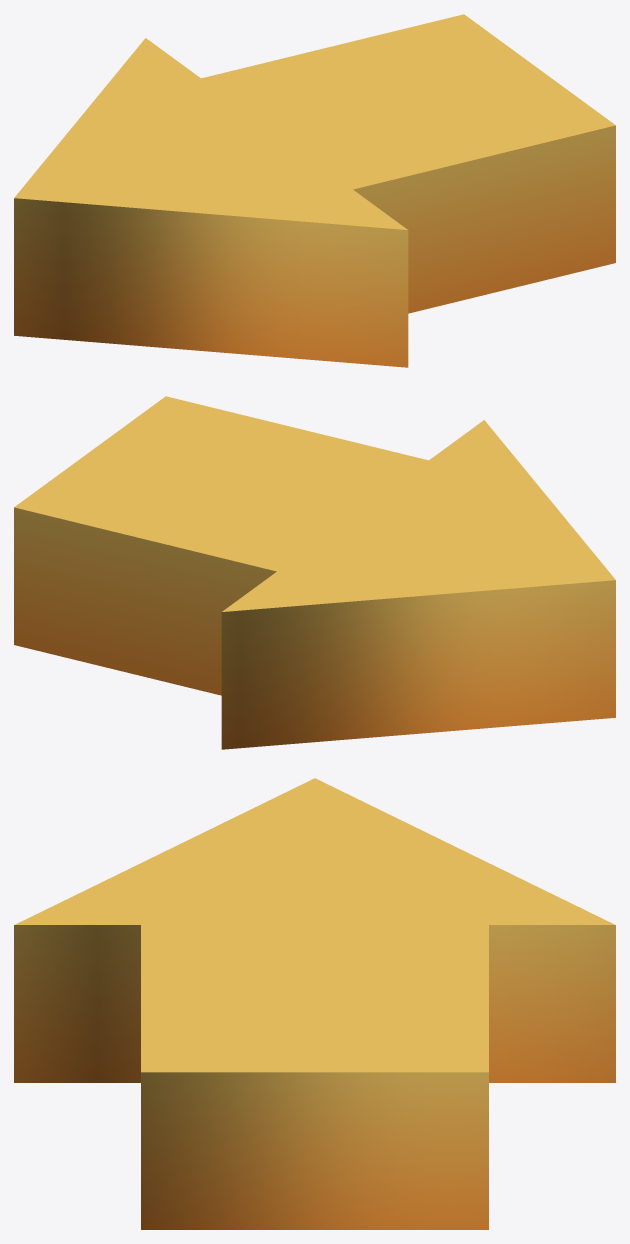
File: arrow.fbx
3 renders of one model, top to bottom at view 1: azimuth 30°, elevation 25°; view 2: azimuth 150°, elevation 25°; view 3: azimuth 270°, elevation 25°, orthographic. The views are drawn at different scales.
Visible parts, largest first — view 1: arrow; view 2: arrow; view 3: arrow.
Part boxes in pixels (box(x1,y1,x2,y2)): arrow: box(14, 14, 615, 367); arrow: box(14, 396, 615, 749); arrow: box(14, 778, 615, 1229).
Bounding box in the file's own units: 80 × 20 × 69.2.
1 material, 1 textured.
